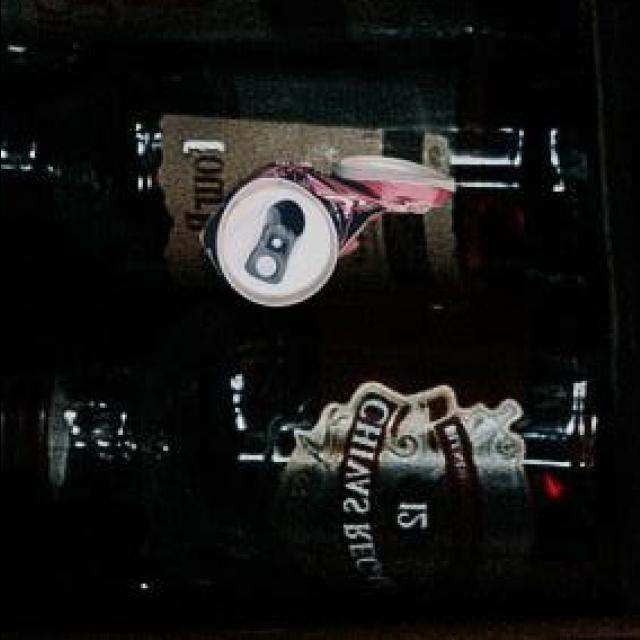logam: (195, 154, 450, 303)
